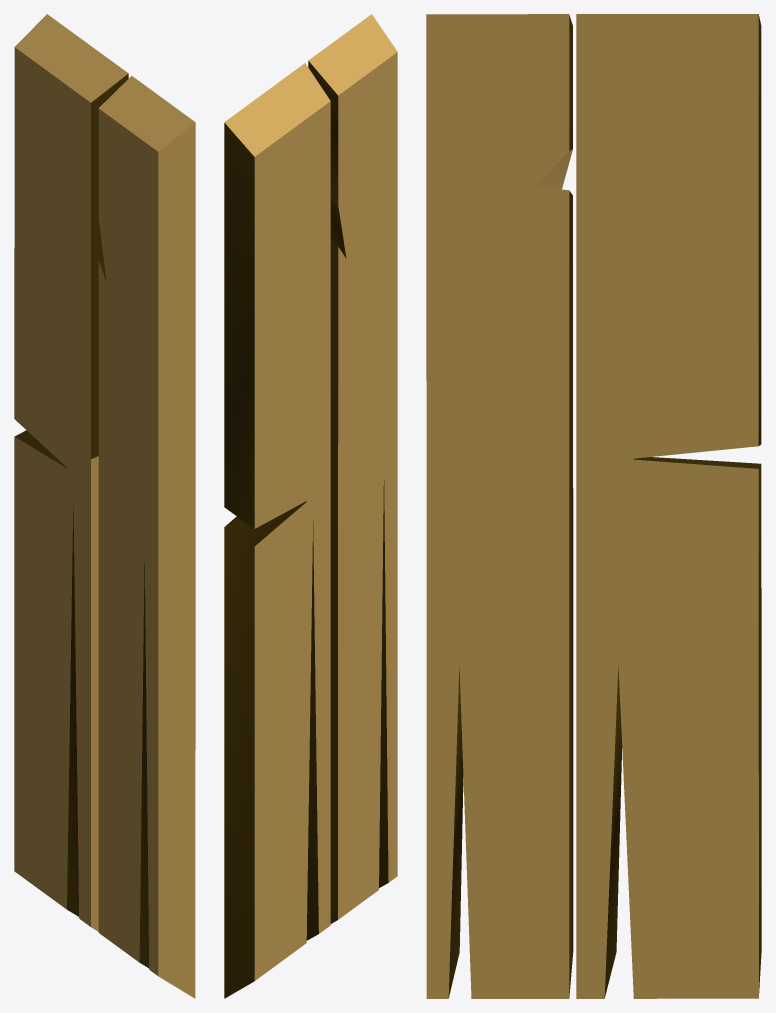
The model's file is shackside1.fbx.
3 views of the same model, side by side, from view 1: azimuth 30°, elevation 25°; view 2: azimuth 150°, elevation 25°; view 3: azimuth 270°, elevation 25° (orthographic). The views are drawn at different scales.
Visible parts, largest first — view 1: shackside1; view 2: shackside1; view 3: shackside1.
Part boxes in pixels (x1,y1,x2,y2): shackside1: (14,14,195,998); shackside1: (224,14,397,998); shackside1: (426,14,761,998).
Size of the model in its own units: 1.76 by 46.31 by 14.28.
